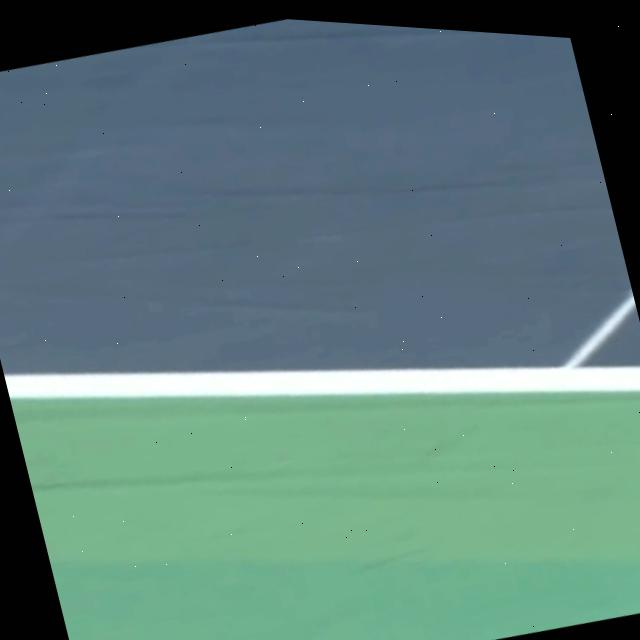right: (3, 367, 640, 398)
